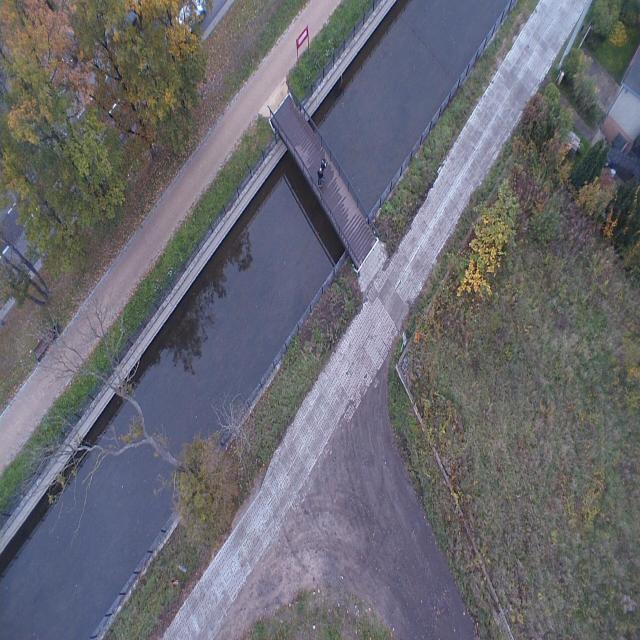p3rson: (321, 157, 326, 180), (317, 168, 323, 187)
